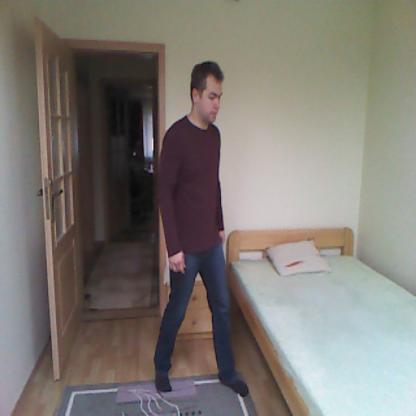normal: (155, 51, 249, 398)
